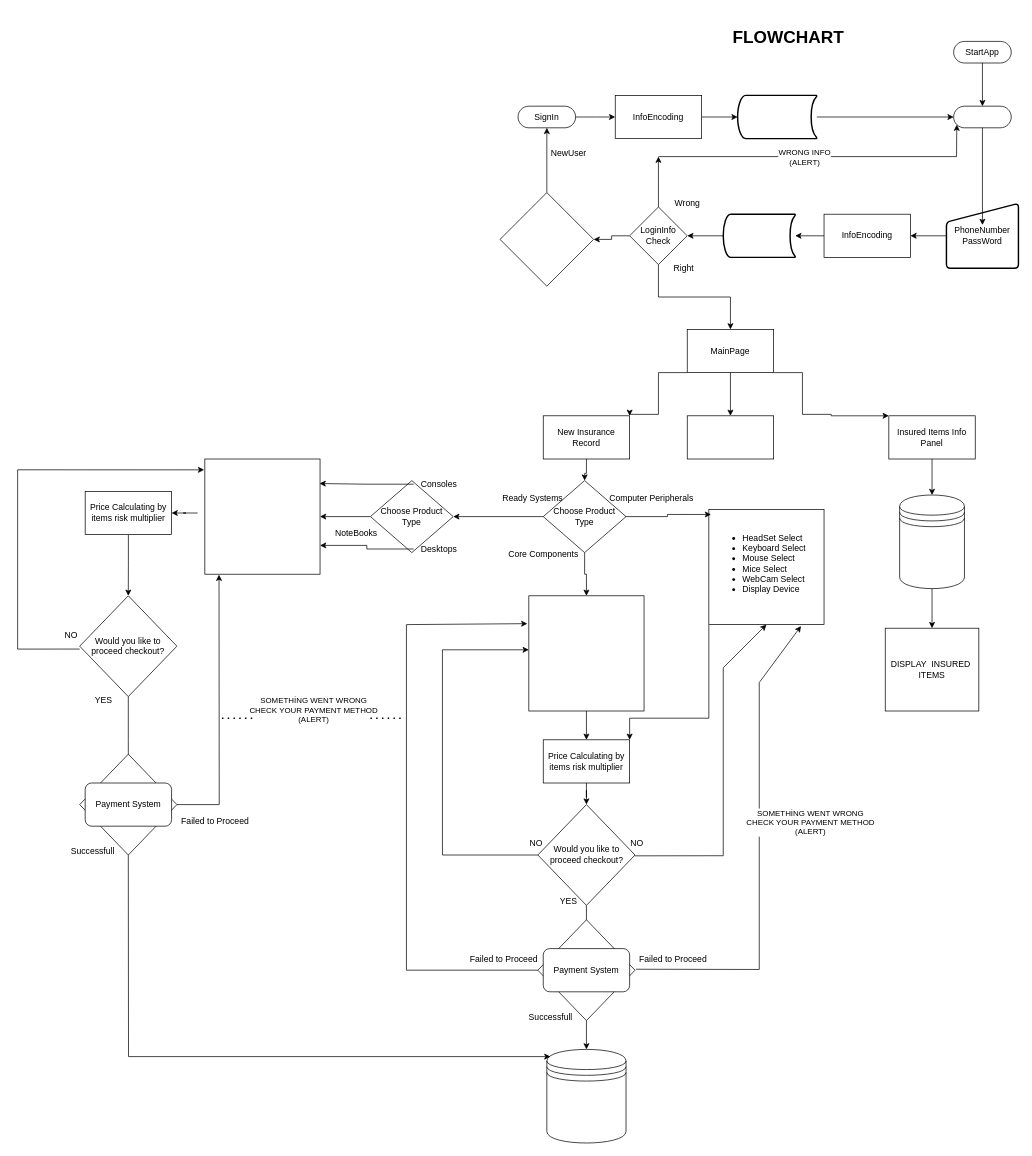
Image size: 1032x1156. Some labels were removed from this diagram. The centre of each missing label's shape, as x and y in pixels:
Encoded Info Search: point (759, 235)
GPU Select MotherBoard Select Ram Select with Number CPU Select SSD Select: point (586, 653)
News/Others: point (730, 437)
NewUser / ForgetPassword: point (546, 239)
Start Query by UserId to reach Insured Items: point (931, 541)
Store the Insured Items and Insurance Info: point (586, 1096)
Storing Encoded Info: point (777, 116)
SystemType Select Brand Select Product Model Select Submodel Select: point (262, 516)
UserLogin: point (982, 116)
